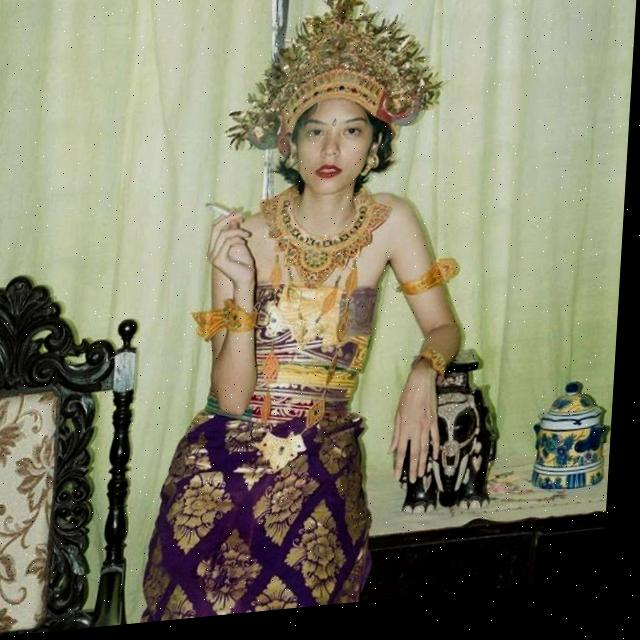cigarette: (206, 204, 250, 231)
